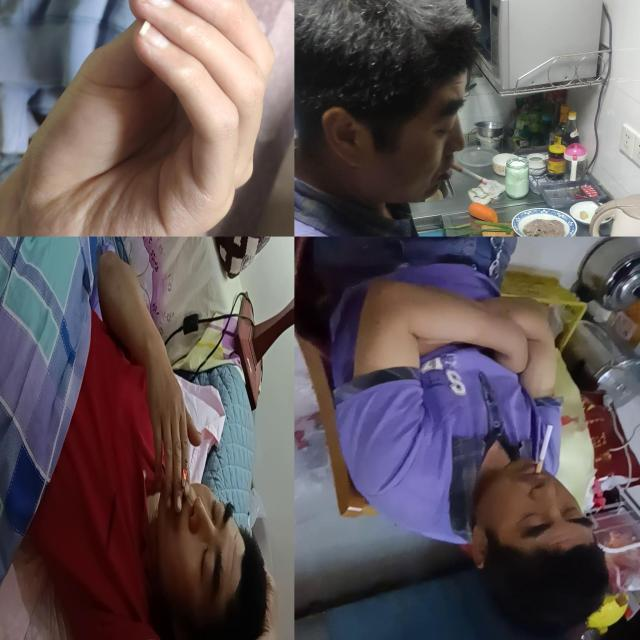smoking: (535, 424, 554, 474), (451, 163, 487, 184), (180, 458, 188, 503)
